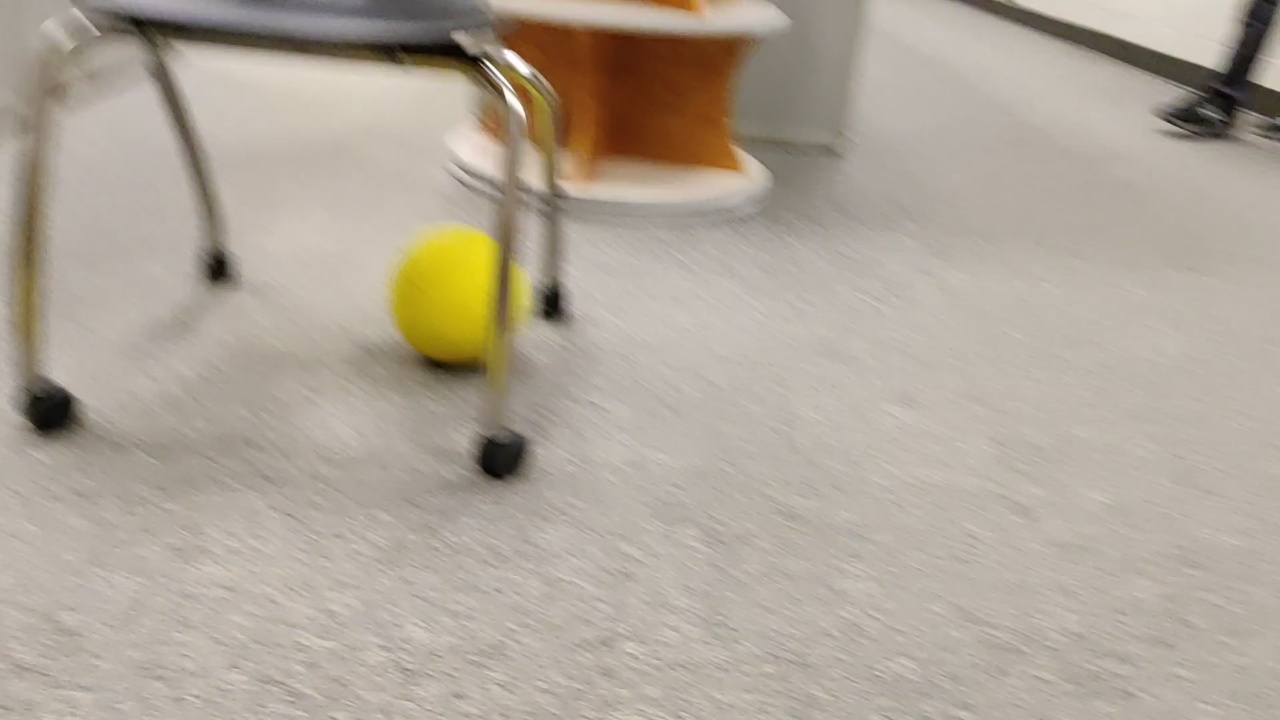Ball: (396, 231, 533, 366)
